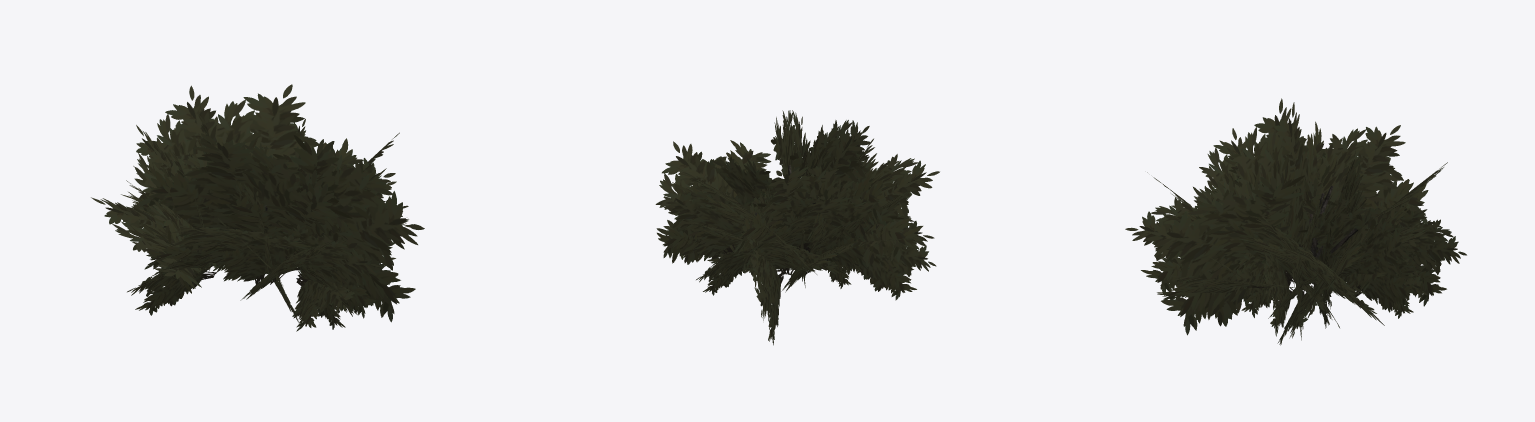
The model's file is shrub_desert_scrub.glb.
The picture shows the model from 3 angles, left to right: view 1: azimuth 30°, elevation 25°; view 2: azimuth 150°, elevation 25°; view 3: azimuth 270°, elevation 25°; orthographic projection. The views are drawn at different scales.
Visible parts, largest first — view 1: shrub_desert_scrub_shrub_scrub_leaves; view 2: shrub_desert_scrub_shrub_scrub_leaves; view 3: shrub_desert_scrub_shrub_scrub_leaves, shrub_desert_scrub_bark_dead.
Boxes of the visible parts, x1,y1,x2,y2 form: shrub_desert_scrub_shrub_scrub_leaves: (91, 84, 424, 331); shrub_desert_scrub_shrub_scrub_leaves: (655, 110, 939, 345); shrub_desert_scrub_shrub_scrub_leaves: (1125, 98, 1466, 345); shrub_desert_scrub_bark_dead: (1300, 185, 1370, 284).
Size of the model in its own units: 2.03 by 1.34 by 1.97.
2 materials, 2 textured.
